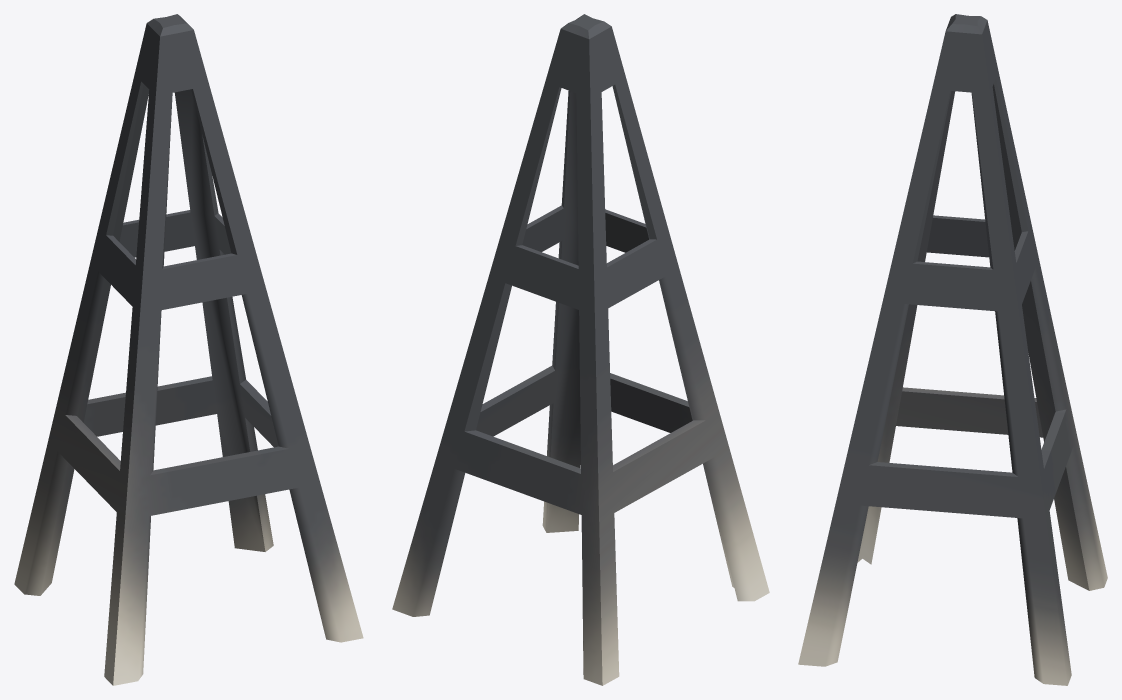
File: TDMast.fbx
3 renders of one model, left to right at view 1: azimuth 30°, elevation 25°; view 2: azimuth 150°, elevation 25°; view 3: azimuth 270°, elevation 25°, orthographic.
Parts seen in each view (by area): view 1: polySurface17; view 2: polySurface17; view 3: polySurface17.
Part boxes in pixels (left/top/right/bottom): polySurface17: left=14, top=14, right=363, bottom=685; polySurface17: left=392, top=14, right=769, bottom=685; polySurface17: left=798, top=14, right=1107, bottom=685.
Size of the model in its own units: 30.45 by 65.17 by 30.44.
